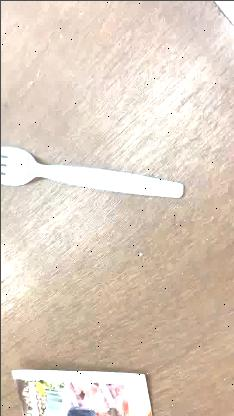Others: (0, 146, 184, 198)
